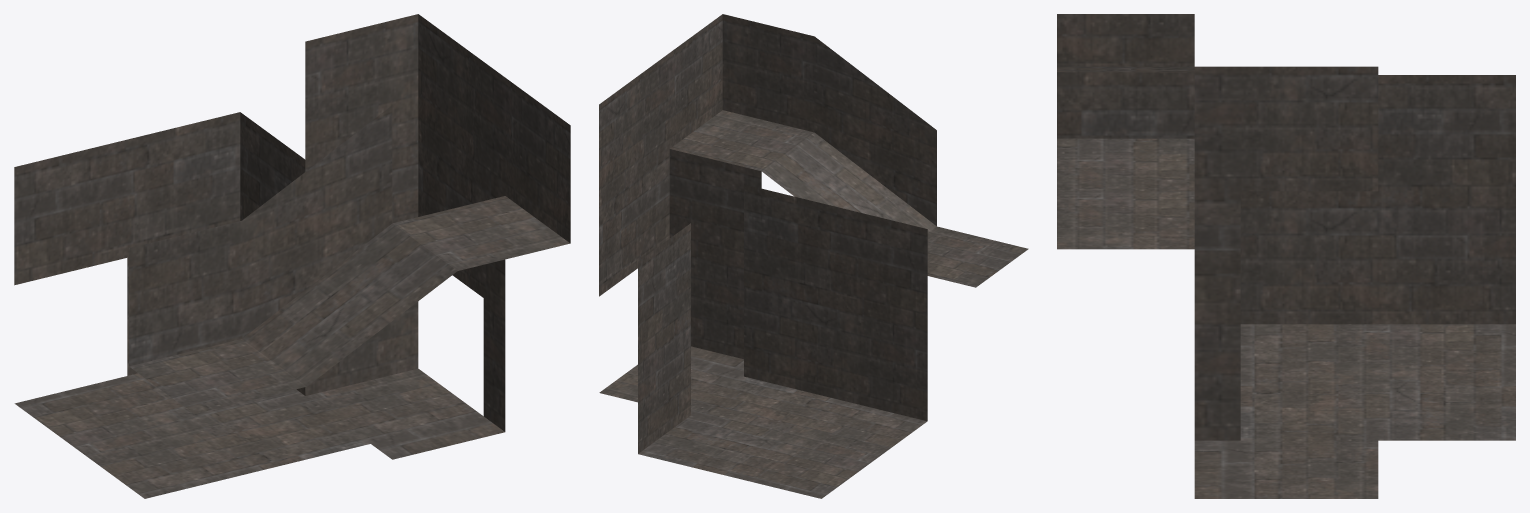
The model's file is room10.gltf.
3 views of the same model, side by side, from view 1: azimuth 30°, elevation 25°; view 2: azimuth 150°, elevation 25°; view 3: azimuth 270°, elevation 25° (orthographic). The views are drawn at different scales.
Parts seen in each view (by area): view 1: Plane.005; view 2: Plane.005; view 3: Plane.005.
Part boxes in pixels (left/top/right/bottom): Plane.005: left=14, top=14, right=570, bottom=498; Plane.005: left=599, top=14, right=1028, bottom=498; Plane.005: left=1057, top=14, right=1515, bottom=498.
Bounding box in the file's own units: 10 × 9 × 10.
Materials: 1 (1 with a texture image).
